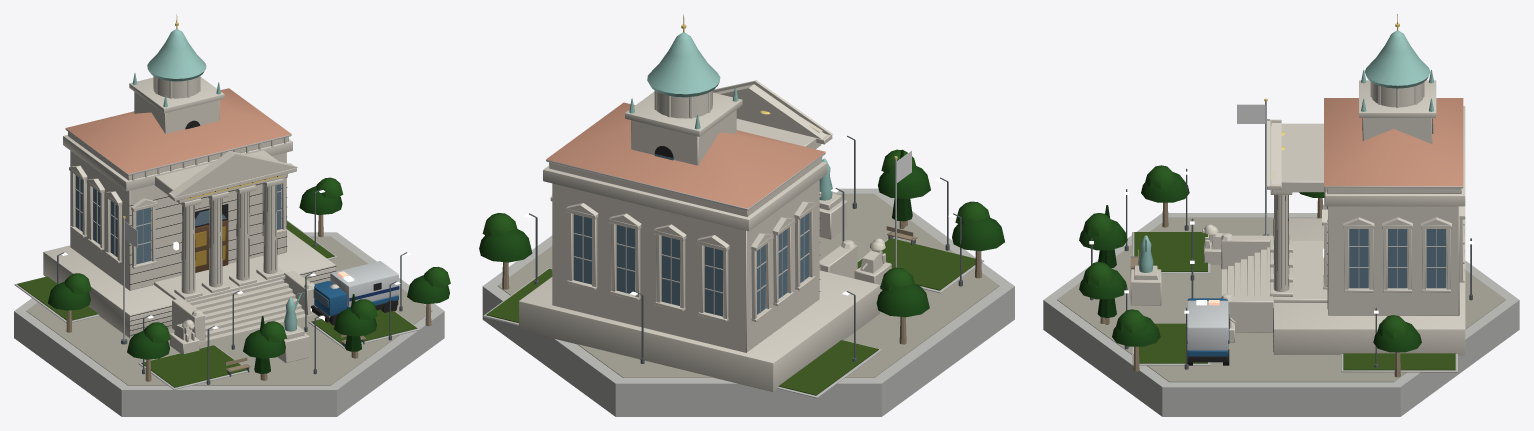
File: courthouse_med.glb
3 views of the same model, side by side, from view 1: azimuth 30°, elevation 25°; view 2: azimuth 150°, elevation 25°; view 3: azimuth 270°, elevation 25° (orthographic). The views are drawn at different scales.
Parts seen in each view (by area): view 1: stone, wall_concrete, pavers, roof_tile, leaf, turf, dark, paint, glass, copper, wood, steel_dark (+1 smaller); view 2: stone, wall_concrete, roof_tile, pavers, leaf, glass, turf, copper, steel_dark, wood; view 3: stone, wall_concrete, pavers, roof_tile, leaf, turf, glass, copper, paint, steel_dark, dark, wood (+1 smaller).
Boxes of the visible parts, <box> form: stone: <box>43,76,339,362</box>; wall_concrete: <box>14,129,444,416</box>; pavers: <box>26,236,432,385</box>; roof_tile: <box>65,88,291,174</box>; leaf: <box>48,177,450,373</box>; turf: <box>17,221,417,387</box>; dark: <box>129,120,398,335</box>; paint: <box>314,261,399,316</box>; glass: <box>75,175,328,307</box>; copper: <box>132,29,304,331</box>; wood: <box>66,214,431,381</box>; steel_dark: <box>56,189,407,384</box>; stone: <box>519,80,891,391</box>; wall_concrete: <box>482,152,1014,416</box>; roof_tile: <box>546,102,825,208</box>; pavers: <box>498,193,999,377</box>; leaf: <box>479,149,1004,317</box>; glass: <box>574,154,808,316</box>; turf: <box>486,238,975,395</box>; copper: <box>629,32,832,200</box>; steel_dark: <box>529,135,962,363</box>; wood: <box>502,220,981,344</box>; stone: <box>1130,80,1465,355</box>; wall_concrete: <box>1043,186,1519,416</box>; pavers: <box>1057,217,1505,382</box>; roof_tile: <box>1324,98,1463,186</box>; leaf: <box>1079,165,1421,352</box>; turf: <box>1134,232,1455,370</box>; glass: <box>1327,124,1445,288</box>; copper: <box>1138,30,1433,272</box>; paint: <box>1187,298,1229,356</box>; steel_dark: <box>1090,168,1472,369</box>; dark: <box>1187,118,1432,365</box>; wood: <box>1100,198,1400,377</box>.
Bounding box in the file's own units: 21.41 × 18 × 24.6.
